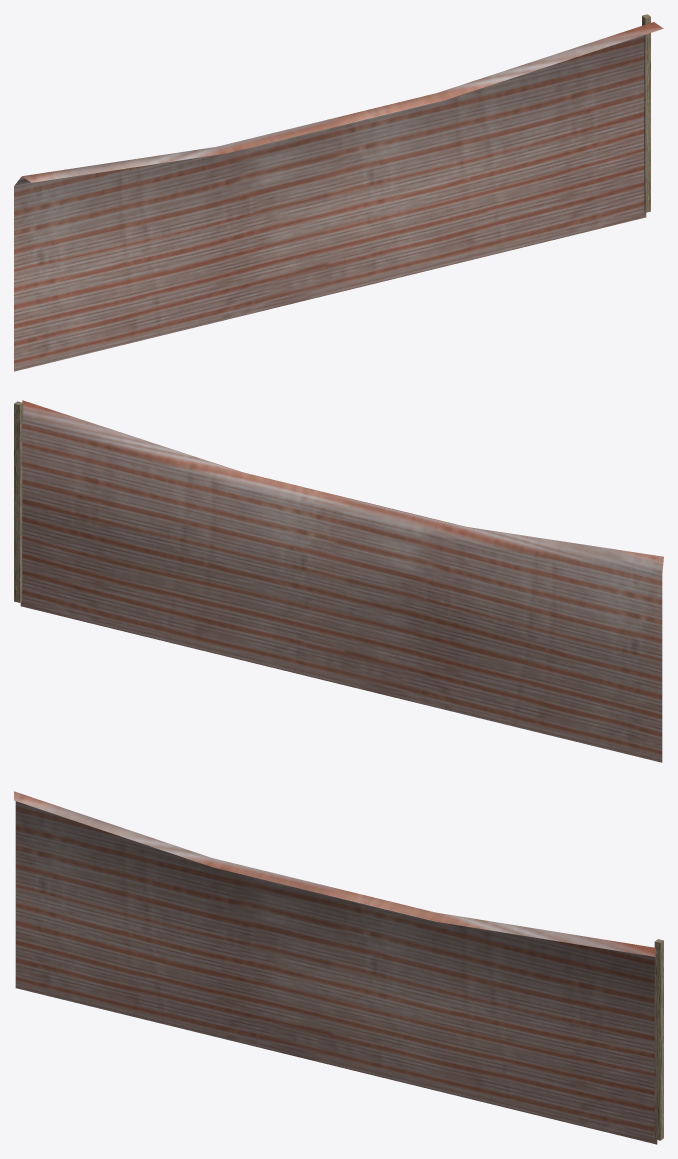
Rendered from fenceConst.fbx.
3 renders of one model, top to bottom at view 1: azimuth 30°, elevation 25°; view 2: azimuth 150°, elevation 25°; view 3: azimuth 330°, elevation 25°, orthographic.
Parts seen in each view (by area): view 1: fence; view 2: fence; view 3: fence.
Boxes of the visible parts, <box> form: fence: <box>14,14,663,371</box>; fence: <box>14,400,663,762</box>; fence: <box>14,791,663,1144</box>.
Size of the model in its own units: 3.8 by 1.14 by 0.1258.
